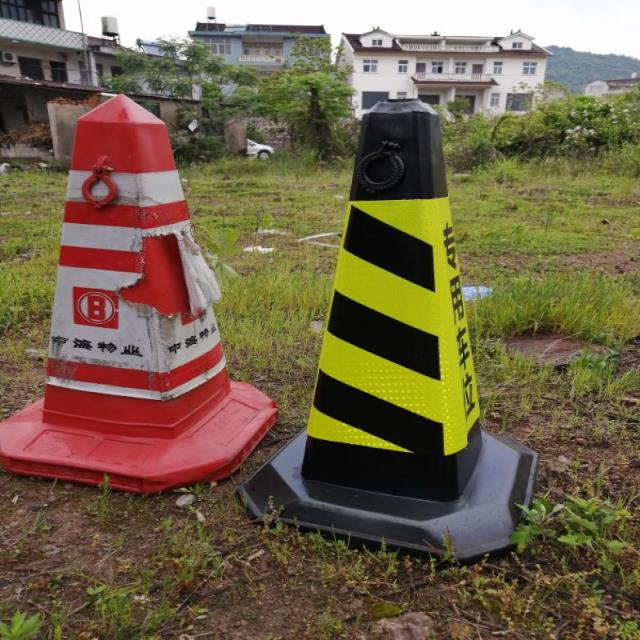reflective_cone: (236, 91, 543, 563), (9, 95, 278, 495)
